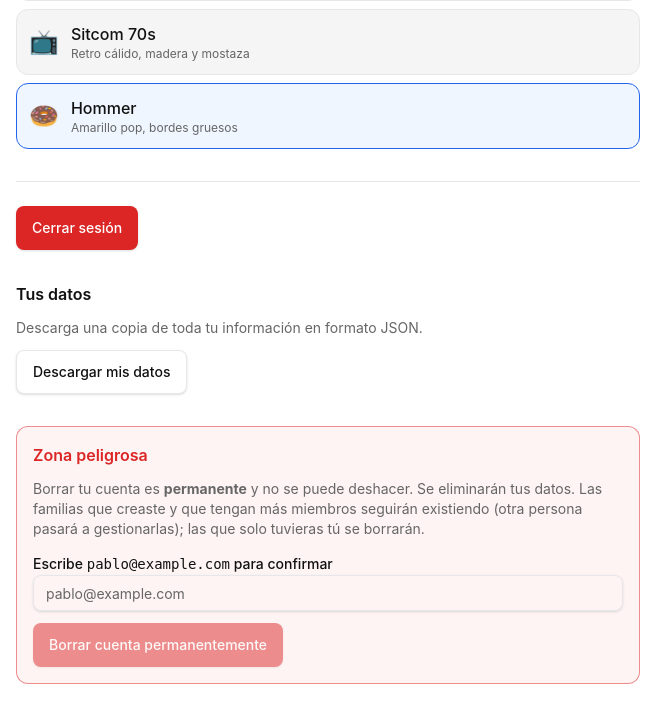
Test case: SettingsView (base) › habilita el botón también al escribir la palabra BORRAR
(page scrolled)
Type "BORRAR" into the field labelled "Escribe pablo@example.com para confirmar" at (328, 593), box [33,575,623,611]
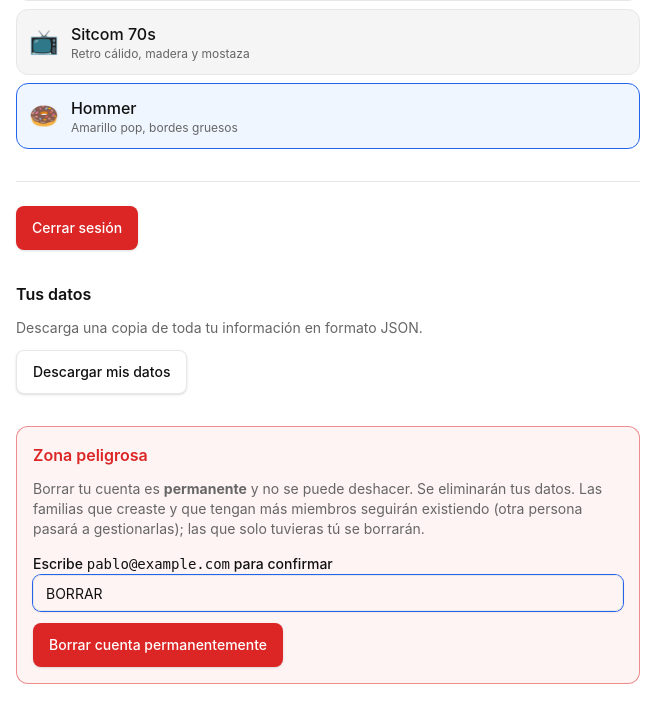
Now the button "Borrar cuenta permanentemente" is enabled, box [33,623,283,667]
